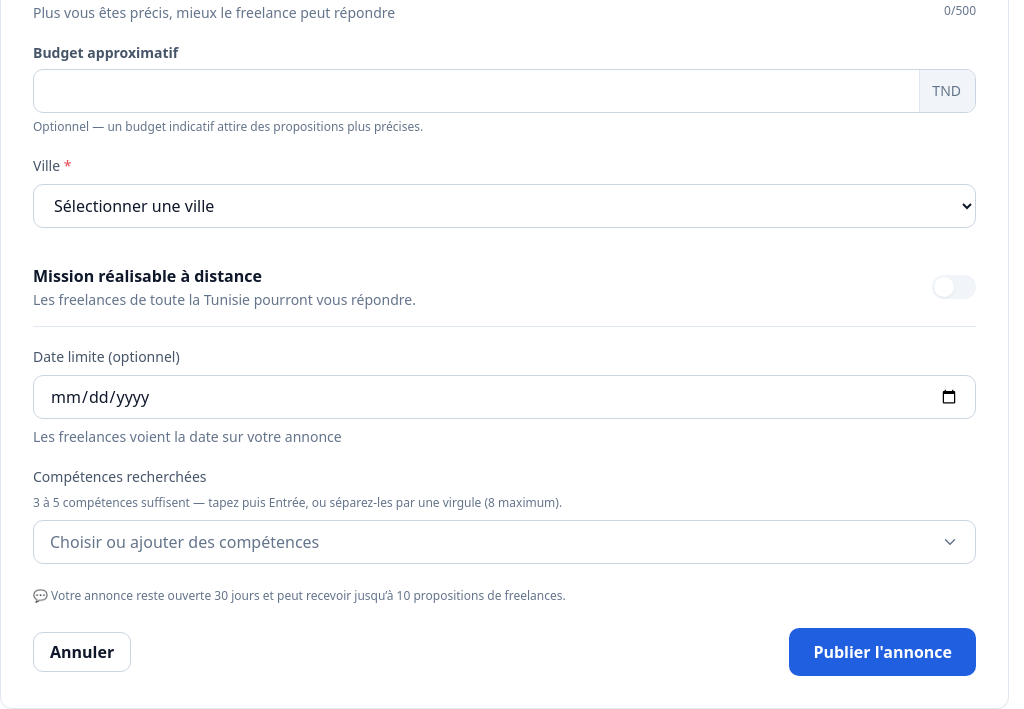
Scenario: AnnonceForm — skills are separate tags › offers no suggestions until a category is chosen, then the taxonomy pool for THAT category
(page scrolled)
Click the button named "Compétences recherchées".
click(185, 542)  # box [33, 520, 976, 564]
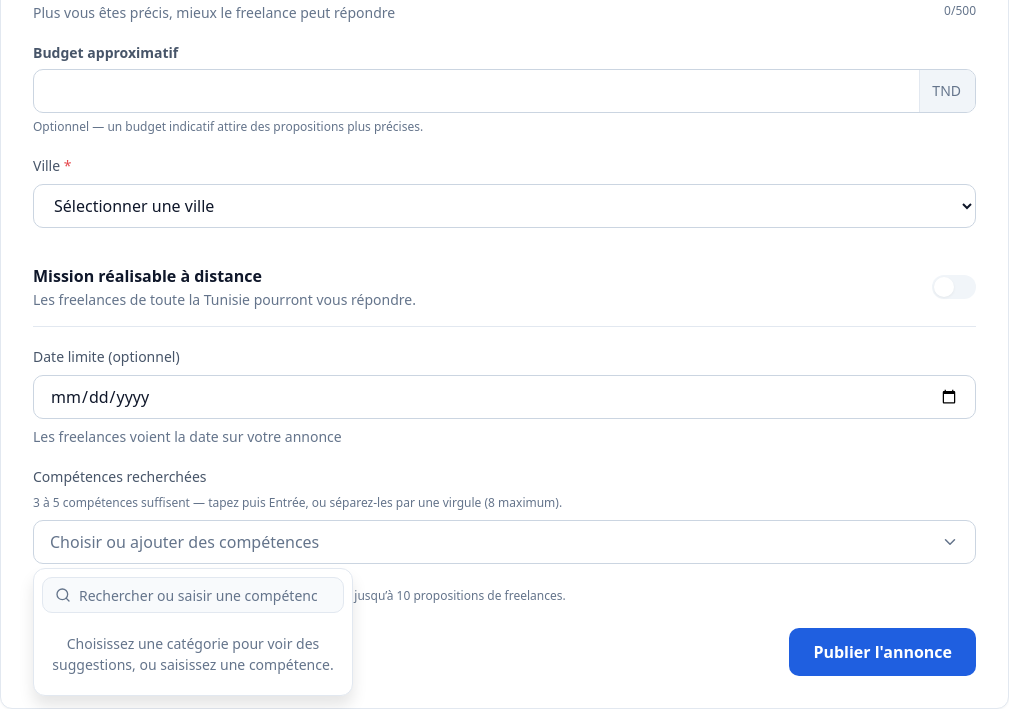
Check: the text "Choisissez une catégorie pour voir des suggestions, ou saisissez une compétence." is shown, box [42, 621, 344, 687]
Press Escape
(page scrolled)
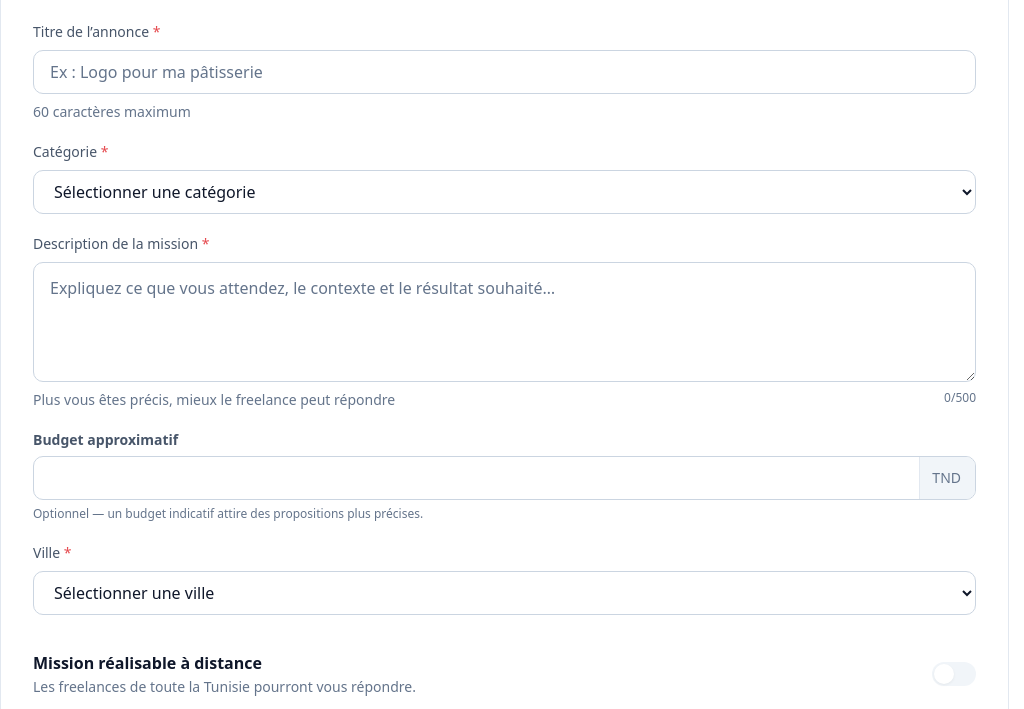
Select "Design graphique & logo" in the dropdown labelled "Catégorie" at (504, 192), box [33, 170, 976, 214]
(page scrolled)
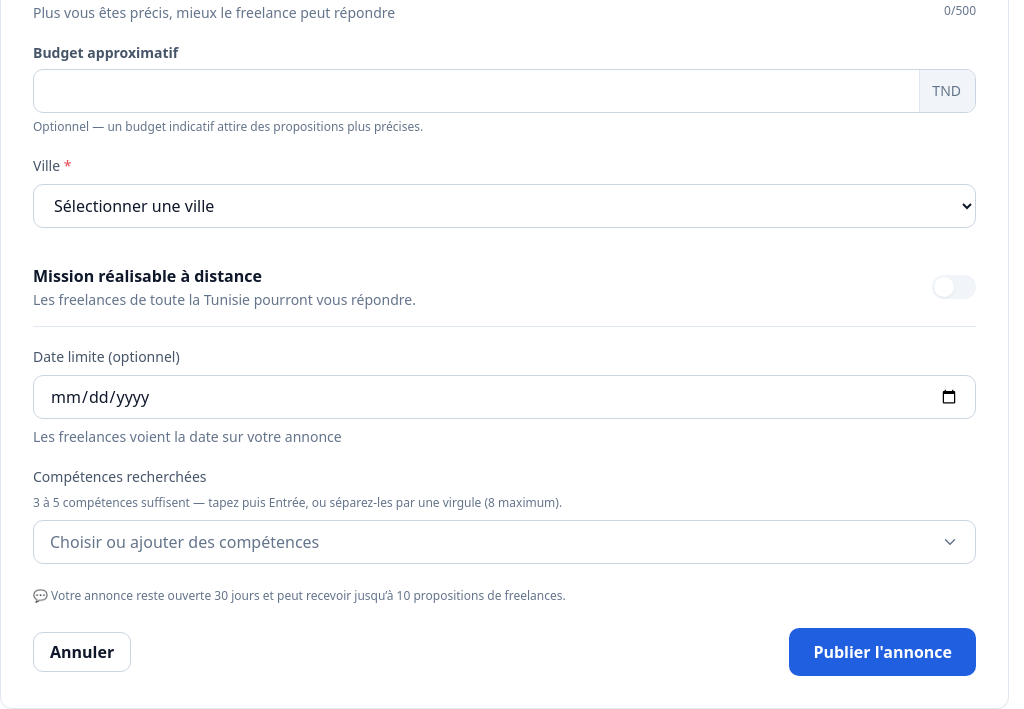
Click the button named "Compétences recherchées".
click(185, 542)  # box [33, 520, 976, 564]
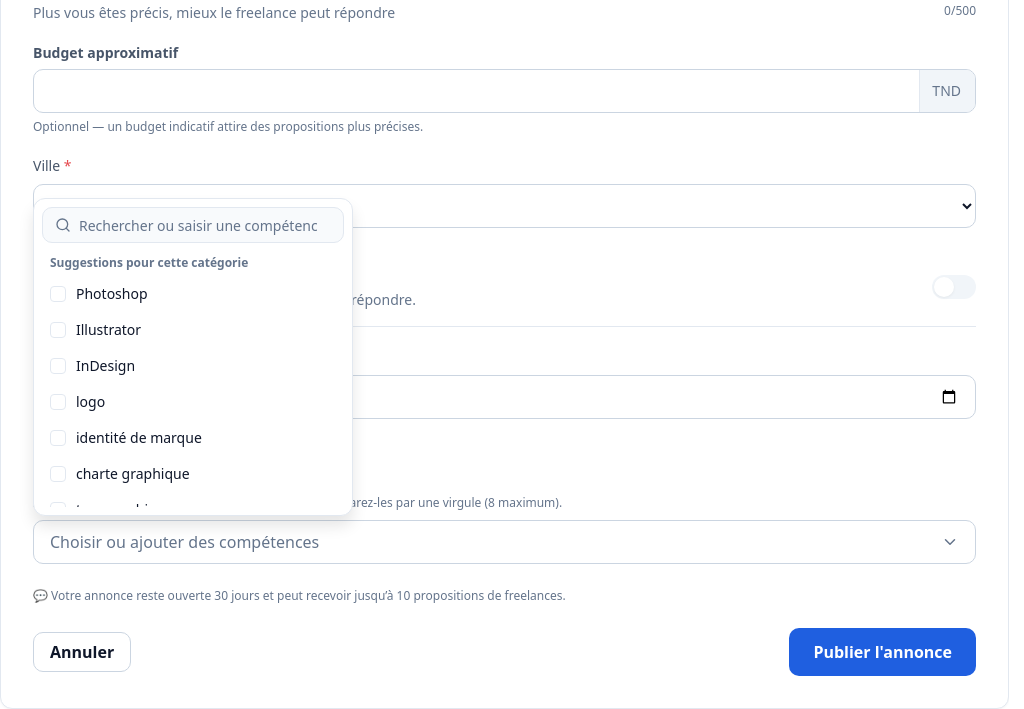
Check: the checkbox labelled "Photoshop" is shown, box [50, 286, 66, 302]
